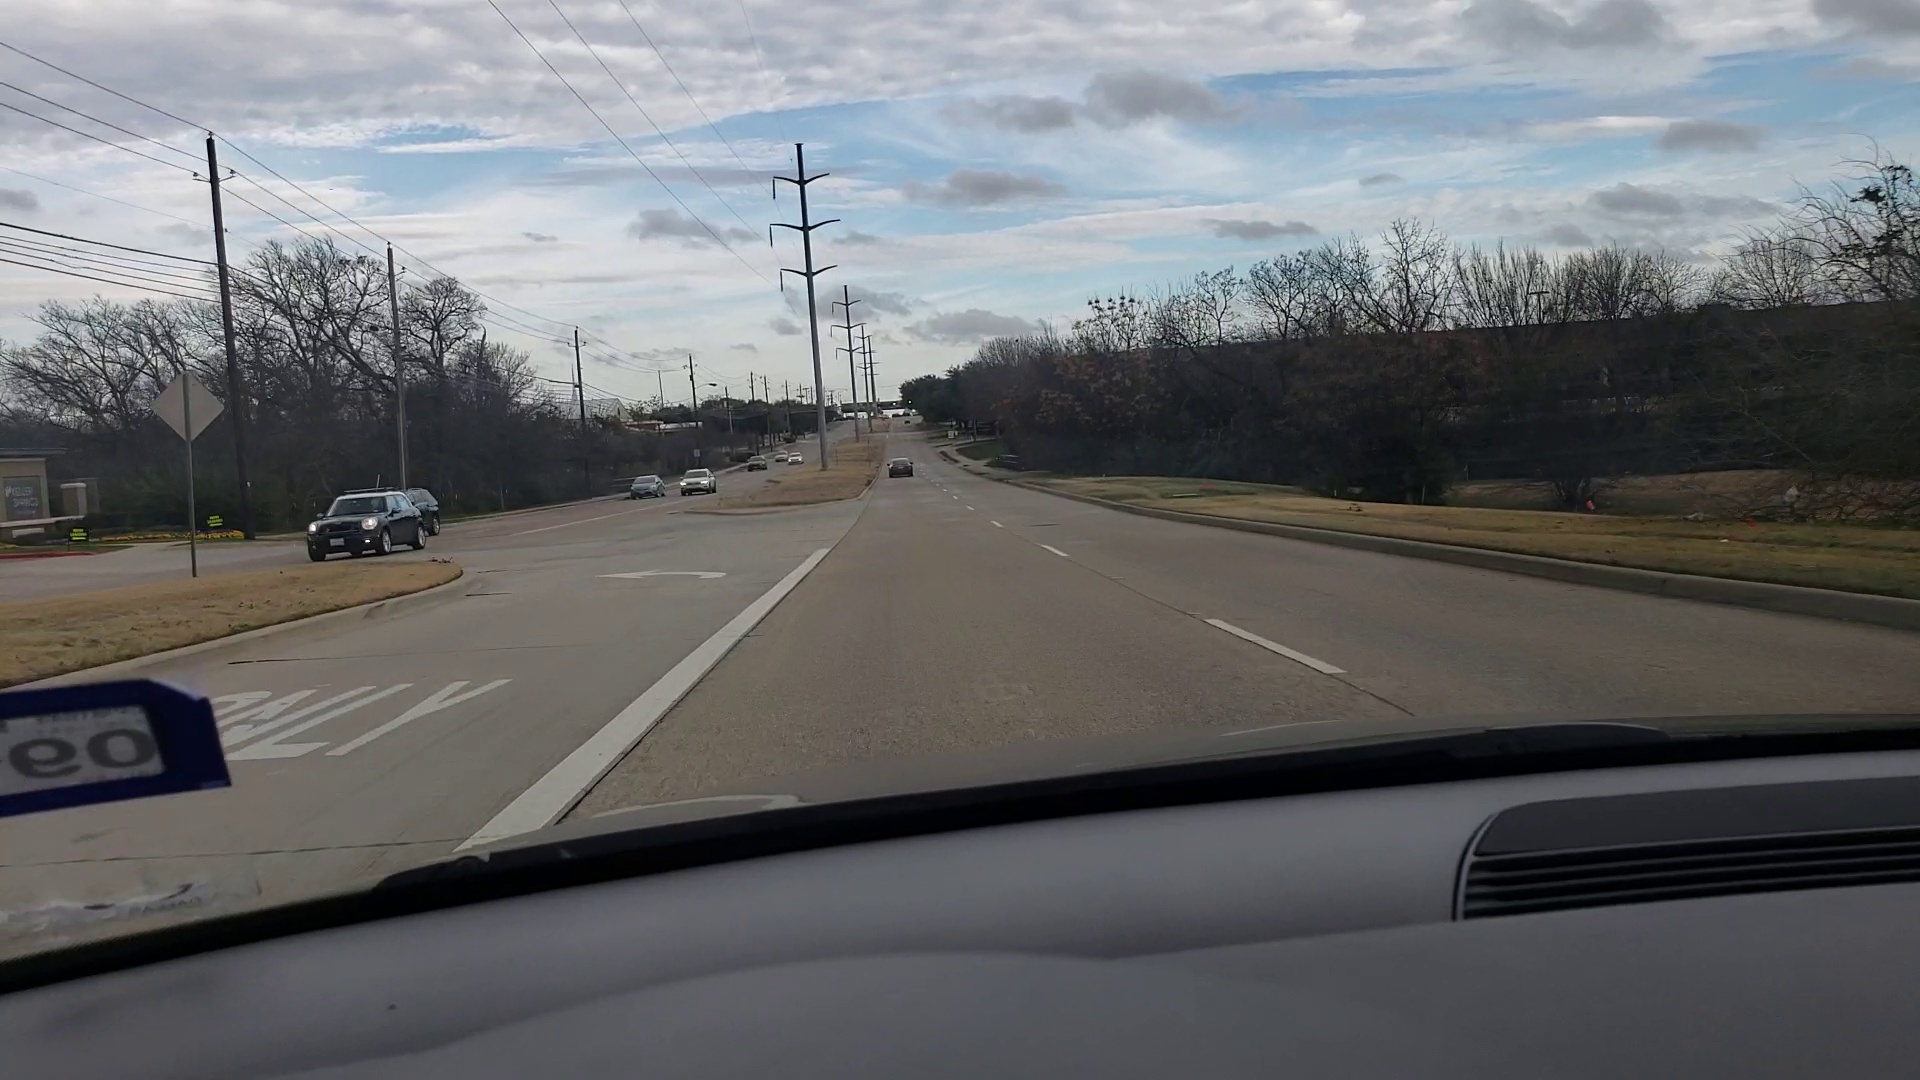car: (301, 495, 434, 555), (400, 489, 443, 535), (628, 472, 665, 498), (680, 468, 717, 495), (885, 460, 916, 483), (742, 454, 769, 472), (786, 451, 803, 467), (771, 450, 789, 462), (905, 418, 913, 425)
